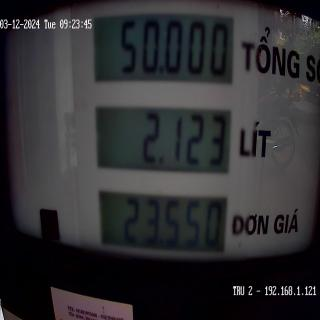screen: (91, 2, 239, 277)
